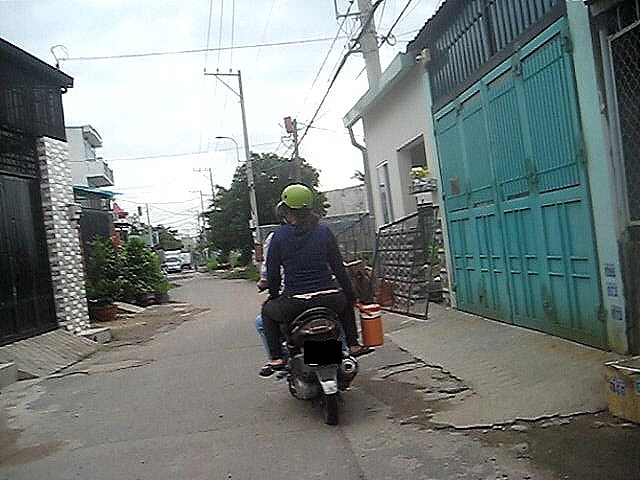hole: (378, 355, 470, 402)
